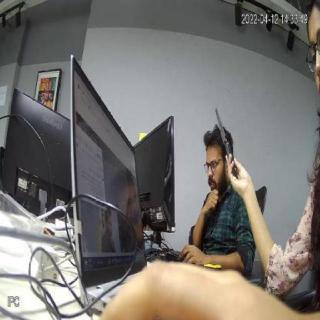knife: (211, 105, 235, 147)
